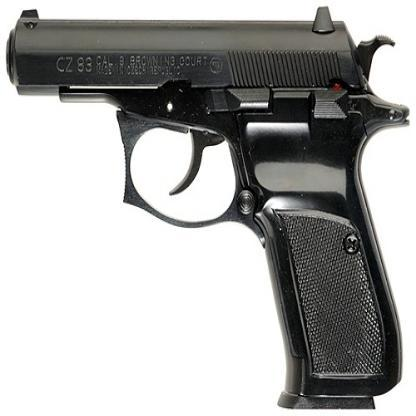gun: (7, 9, 408, 411)
